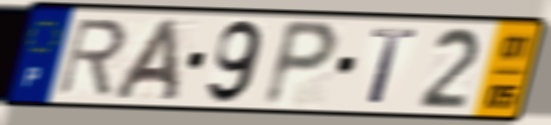2: (416, 25, 485, 112)
9: (204, 17, 269, 106)
A: (108, 16, 181, 104)
P: (259, 17, 343, 110)
R: (54, 16, 130, 98)
T: (365, 27, 422, 107)
